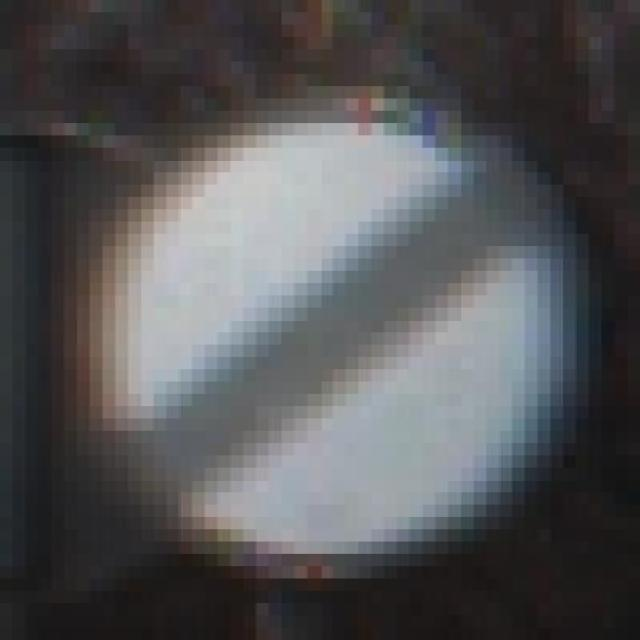End of all speed and passing limits: (77, 86, 589, 566)
